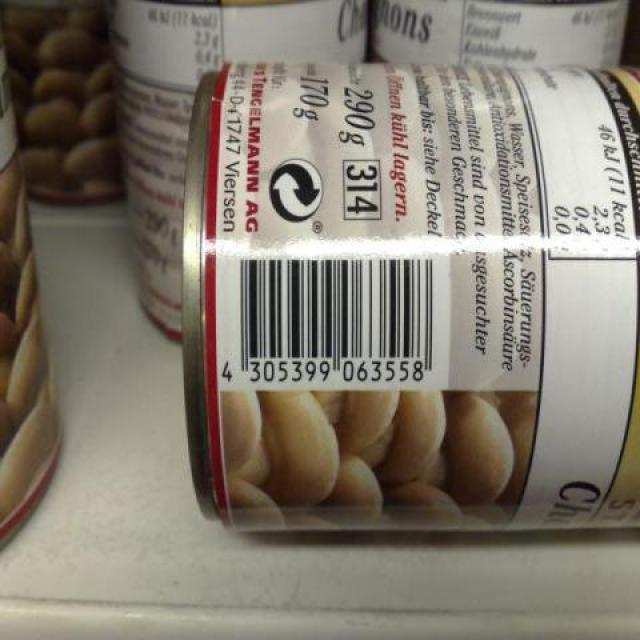Barcode: (219, 242, 448, 390)
